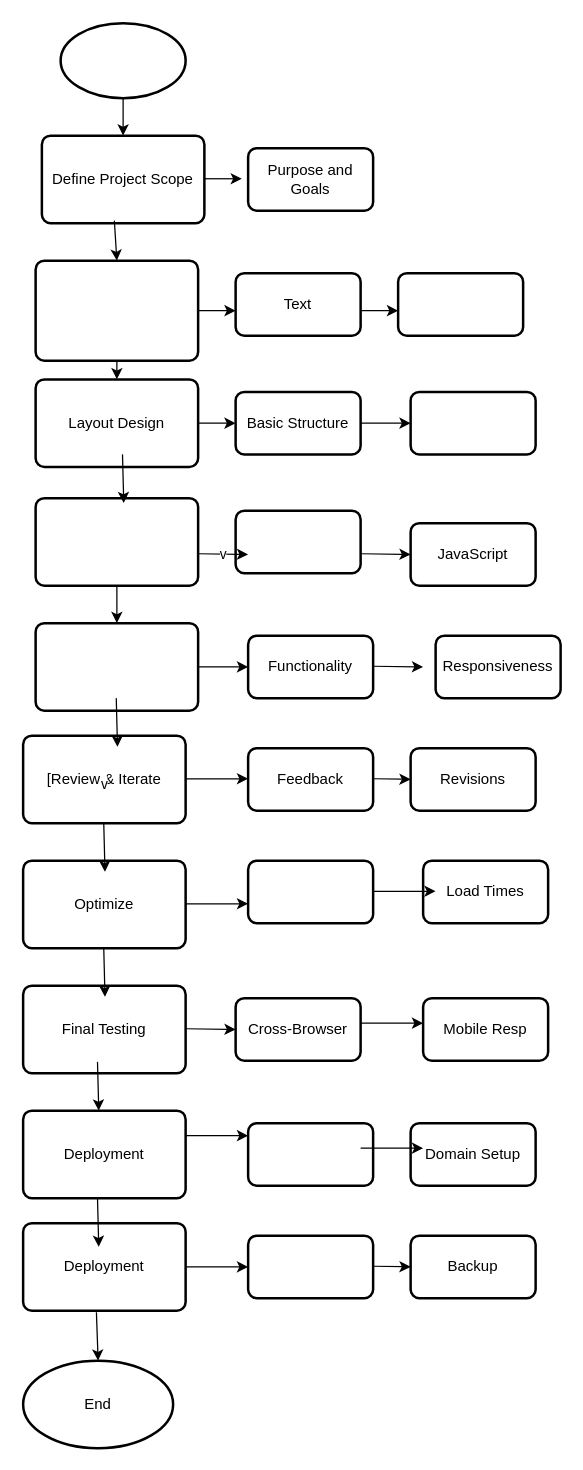
The diagram is 583 pixels wide and 1470 high, and some of its shapes have lost their labels. Here are the shapes that lost their labels. From the top down, the centre of each, then its label:
At (x=122, y=60): "Start".
At (x=116, y=310): "Content Planning".
At (x=460, y=303): "Images".
At (x=472, y=422): "Color Scheme".
At (x=116, y=541): "Development".
At (x=297, y=541): "HTML/CSS".
At (x=116, y=666): "Testing".
At (x=310, y=891): "Performance".
At (x=310, y=1153): "Hosting".
At (x=310, y=1266): "Updates".
